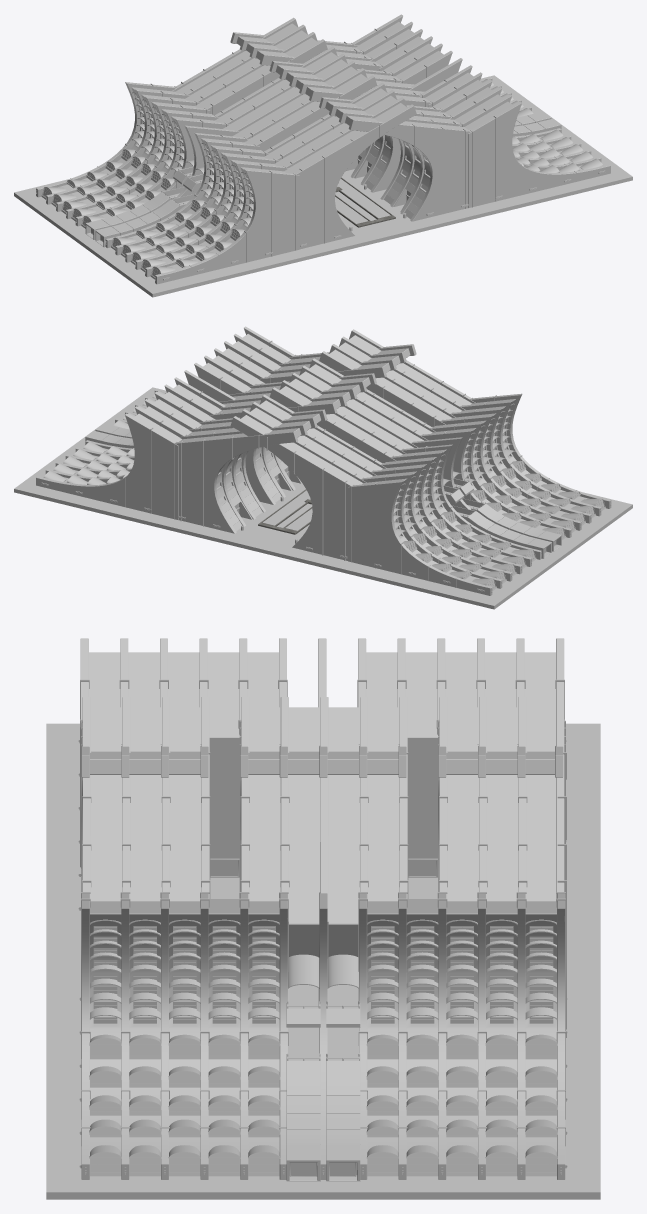
File: Kitbash3D_Brutalist_Building01.fbx
3 renders of one model, top to bottom at view 1: azimuth 30°, elevation 25°; view 2: azimuth 150°, elevation 25°; view 3: azimuth 270°, elevation 25°, orthographic. The views are drawn at different scales.
Visible parts, largest first — view 1: M_Bldg_F_Bldg_Ribs, M_Bldg_F_Bldg_Main, M_Bldg_F_Ground1, M_Bldg_F_Conc_Canopy, M_Bldg_F_WindowsGlass, M_Bldg_F_bLINE, M_Bldg_F_Win_Mull_Frames, M_Bldg_F_Water, M_Bldg_F_Fountain; view 2: M_Bldg_F_Bldg_Ribs, M_Bldg_F_Bldg_Main, M_Bldg_F_Ground1, M_Bldg_F_Conc_Canopy, M_Bldg_F_WindowsGlass, M_Bldg_F_bLINE, M_Bldg_F_Win_Mull_Frames, M_Bldg_F_Water, M_Bldg_F_Fountain; view 3: M_Bldg_F_Bldg_Main, M_Bldg_F_Bldg_Ribs, M_Bldg_F_Ground1, M_Bldg_F_Conc_Canopy, M_Bldg_F_WindowsGlass, M_Bldg_F_Win_Mull_Frames, M_Bldg_F_bLINE.
Part boxes in pixels (x1,y1,x2,y2): M_Bldg_F_Bldg_Ribs: (36, 14, 610, 284); M_Bldg_F_Bldg_Main: (58, 22, 582, 269); M_Bldg_F_Ground1: (14, 75, 632, 297); M_Bldg_F_Conc_Canopy: (41, 79, 603, 279); M_Bldg_F_WindowsGlass: (43, 97, 430, 276); M_Bldg_F_bLINE: (70, 28, 576, 275); M_Bldg_F_Win_Mull_Frames: (43, 96, 409, 276); M_Bldg_F_Water: (335, 179, 390, 223); M_Bldg_F_Fountain: (335, 177, 395, 227); M_Bldg_F_Bldg_Ribs: (36, 326, 611, 595); M_Bldg_F_Bldg_Main: (64, 334, 589, 581); M_Bldg_F_Ground1: (14, 387, 632, 609); M_Bldg_F_Conc_Canopy: (43, 391, 605, 590); M_Bldg_F_WindowsGlass: (216, 408, 604, 588); M_Bldg_F_bLINE: (70, 340, 576, 587); M_Bldg_F_Win_Mull_Frames: (236, 414, 604, 588); M_Bldg_F_Water: (263, 490, 312, 530); M_Bldg_F_Fountain: (258, 489, 312, 534); M_Bldg_F_Bldg_Main: (89, 652, 556, 1181); M_Bldg_F_Bldg_Ribs: (80, 638, 565, 1179); M_Bldg_F_Ground1: (46, 723, 600, 1199); M_Bldg_F_Conc_Canopy: (89, 919, 557, 1176); M_Bldg_F_WindowsGlass: (90, 861, 556, 1175); M_Bldg_F_Win_Mull_Frames: (90, 858, 556, 1176); M_Bldg_F_bLINE: (80, 679, 566, 1146).
Size of the model in its own units: 6068 by 1458 by 3034.
